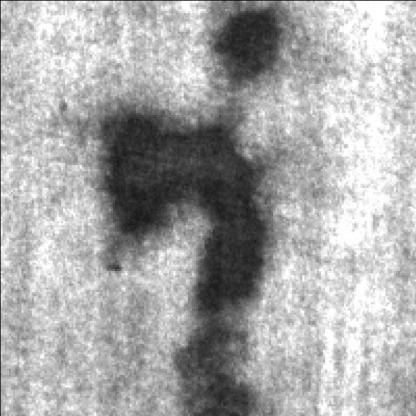patches: (96, 108, 264, 320), (170, 324, 250, 416), (210, 10, 275, 92)
